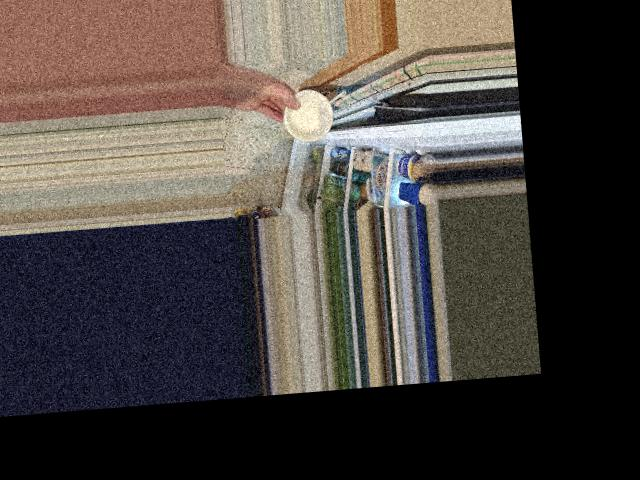cotage: (287, 91, 335, 140)
